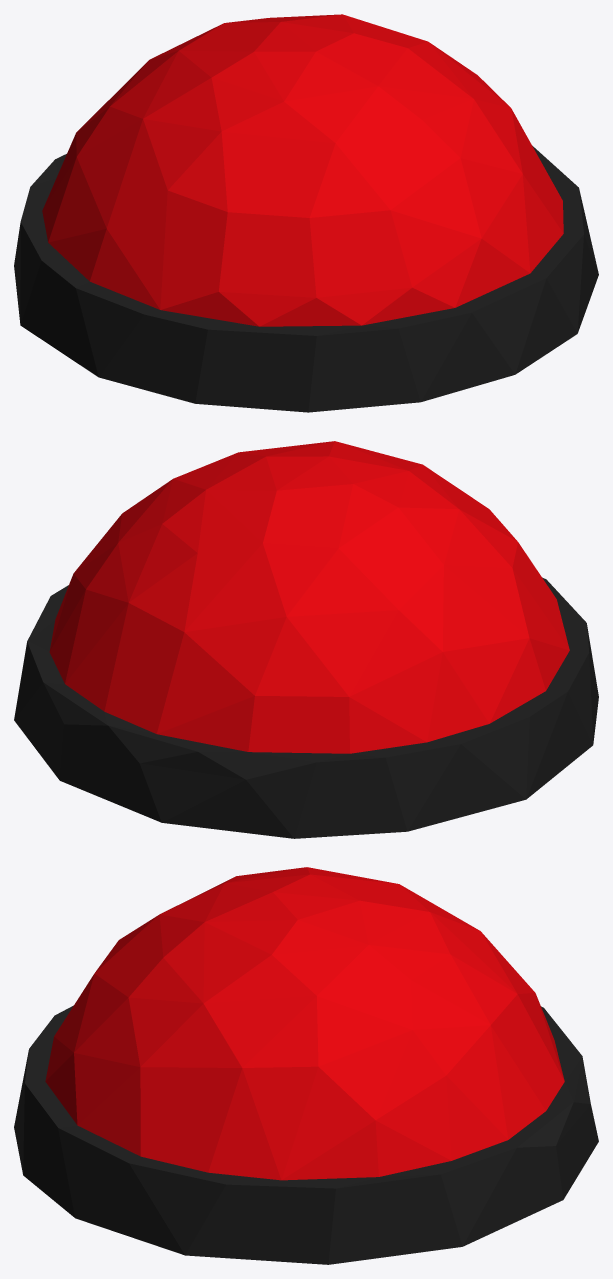
File: Light Red.fbx
3 renders of one model, top to bottom at view 1: azimuth 30°, elevation 25°; view 2: azimuth 150°, elevation 25°; view 3: azimuth 270°, elevation 25°, orthographic.
Parts seen in each view (by area): view 1: Sphere; view 2: Sphere; view 3: Sphere.
Boxes of the visible parts, x1,y1,x2,y2 form: Sphere: (14,14,598,412); Sphere: (14,441,598,838); Sphere: (14,867,598,1264).
Size of the model in its own units: 214 by 101 by 216.
